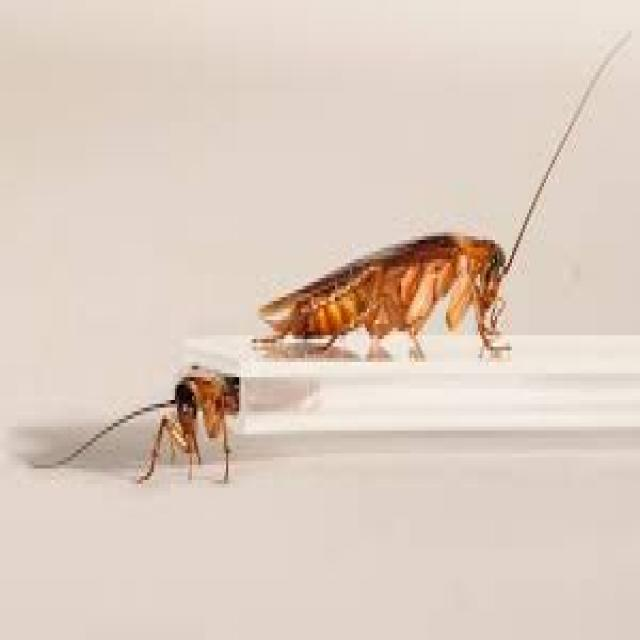Cockroach: (252, 72, 639, 381), (44, 351, 343, 563)
